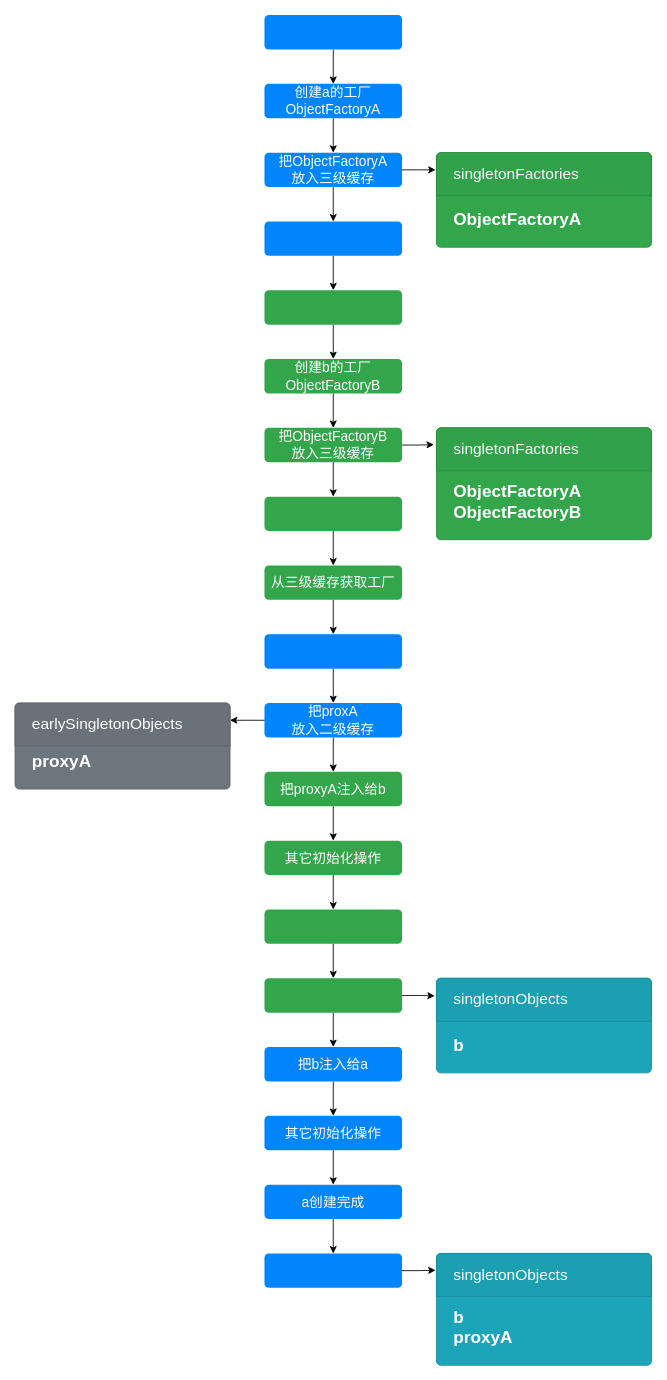
The diagram is 667 pixels wide and 1380 high, and some of its shapes have lost their labels. Here are the shapes that lost their labels. From the top down, the centre of each, then its label:
(x=333, y=32): 创建a对象
(x=333, y=238): 发现需要注入b
(x=333, y=307): 创建b对象
(x=333, y=513): 发现需要注入a
(x=333, y=651): ObjectFactoryA 创建并返回proxyA
(x=333, y=926): b创建完成
(x=333, y=995): 把b放入一级缓存
(x=333, y=1270): 把proxyA 放入一级缓存
